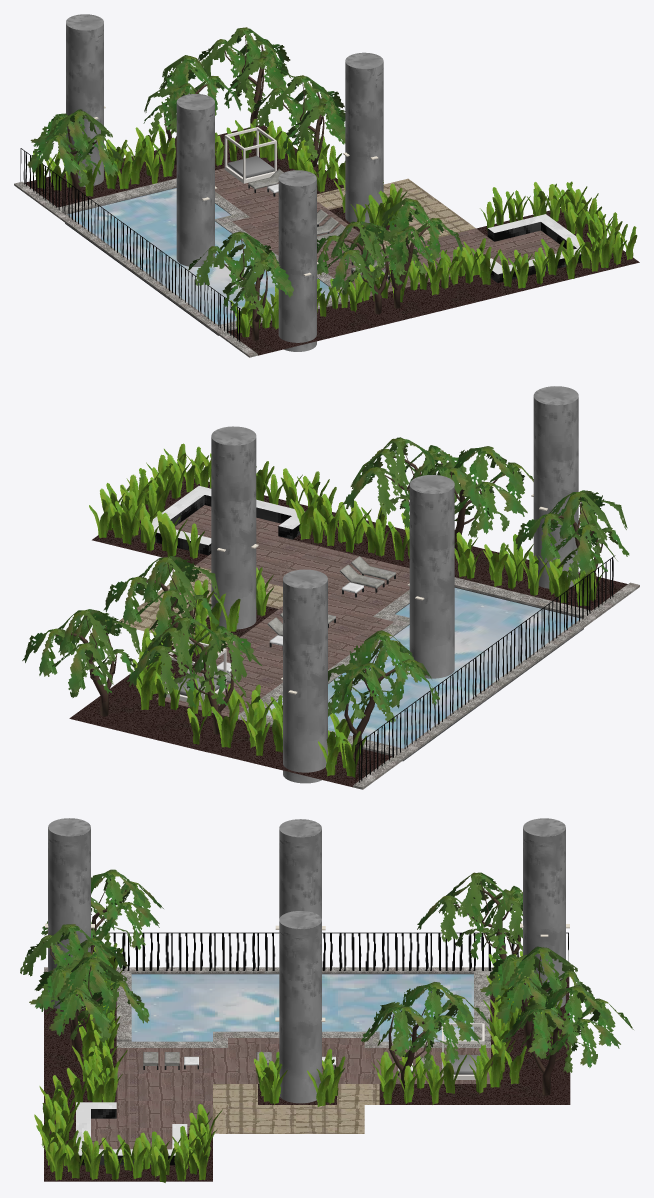
Rendered from lau3.glb.
3 views of the same model, one above another, from view 1: azimuth 30°, elevation 25°; view 2: azimuth 150°, elevation 25°; view 3: azimuth 270°, elevation 25° (orthographic). The views are drawn at different scales.
Visible parts, largest first — view 1: Plane.002, Plane.003, Cylinder, Cylinder.002, Cylinder.003, Cylinder.001, Cylinder.005, Cylinder.010, Cylinder.009, Plane.005, Cylinder.004, Cylinder.006 (+5 smaller); view 2: Plane.002, Plane.003, Cylinder.001, Cylinder, Cylinder.003, Cylinder.002, Cylinder.008, Cylinder.004, Cylinder.009, Plane.005, Cylinder.005, Cylinder.010 (+4 smaller); view 3: Plane.002, Plane.003, Cylinder.003, Cylinder.001, Cylinder.009, Cylinder.010, Plane.005, Cylinder.002, Cylinder.007, Cylinder.004, Cylinder.008, Cylinder (+4 smaller).
Boxes of the visible parts, <box> form: Plane.002: <box>14,125,639,357</box>; Plane.003: <box>67,188,338,324</box>; Cylinder: <box>176,94,214,274</box>; Cylinder.002: <box>278,170,316,351</box>; Cylinder.003: <box>345,52,383,222</box>; Cylinder.001: <box>66,14,103,186</box>; Cylinder.005: <box>188,231,293,340</box>; Cylinder.010: <box>253,75,345,172</box>; Cylinder.009: <box>198,27,294,137</box>; Plane.005: <box>20,148,241,342</box>; Cylinder.004: <box>27,109,124,199</box>; Cylinder.006: <box>317,221,408,314</box>; Plane.002: <box>69,476,639,789</box>; Plane.003: <box>266,587,580,748</box>; Cylinder.001: <box>283,569,327,783</box>; Cylinder: <box>409,475,454,687</box>; Cylinder.003: <box>211,426,256,629</box>; Cylinder.002: <box>533,386,578,588</box>; Cylinder.008: <box>127,616,261,734</box>; Cylinder.004: <box>328,630,439,756</box>; Cylinder.009: <box>22,609,140,716</box>; Plane.005: <box>355,555,615,785</box>; Cylinder.005: <box>515,490,629,595</box>; Cylinder.010: <box>103,556,219,643</box>; Plane.002: <box>44,967,570,1181</box>; Plane.003: <box>131,974,473,1041</box>; Cylinder.003: <box>279,911,321,1103</box>; Cylinder.001: <box>523,818,565,1007</box>; Cylinder.009: <box>502,985,633,1095</box>; Cylinder.010: <box>361,982,490,1093</box>; Plane.005: <box>92,932,568,970</box>; Cylinder.002: <box>48,818,90,1010</box>; Cylinder.007: <box>29,957,149,1058</box>; Cylinder.004: <box>417,872,522,961</box>; Cylinder.008: <box>480,946,594,1047</box>; Cylinder: <box>279,819,321,918</box>.
Size of the model in its own units: 25.8 by 9.53 by 29.26.
18 materials, 15 textured.
